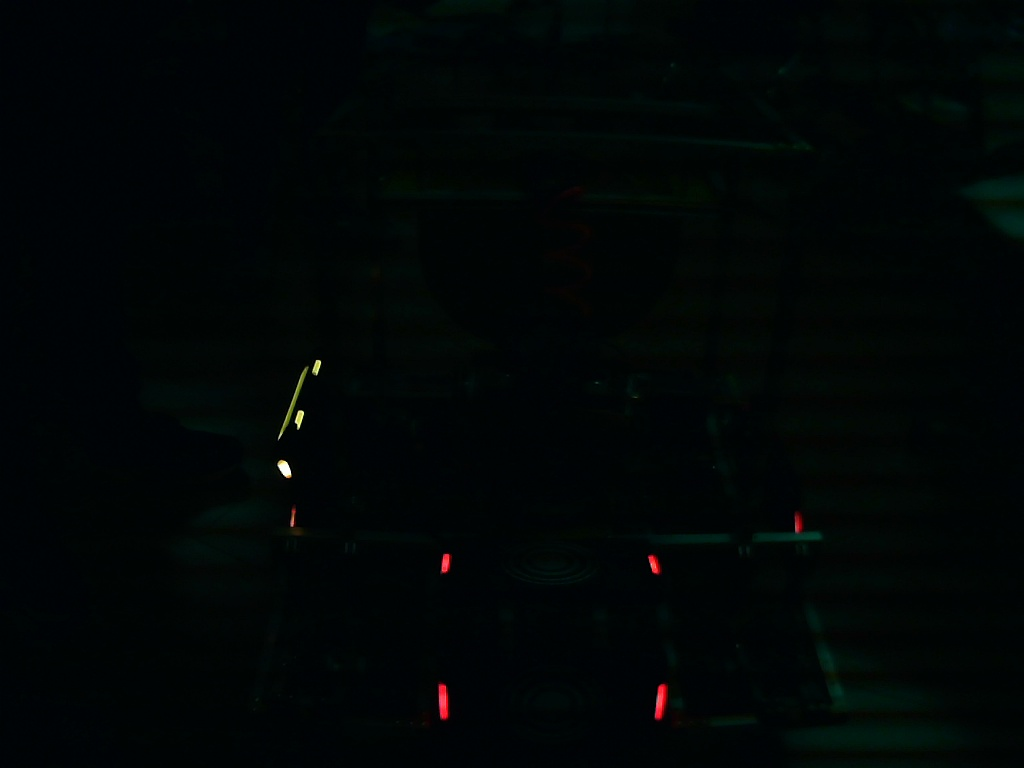lamp: (649, 682, 672, 725), (434, 682, 452, 722)
